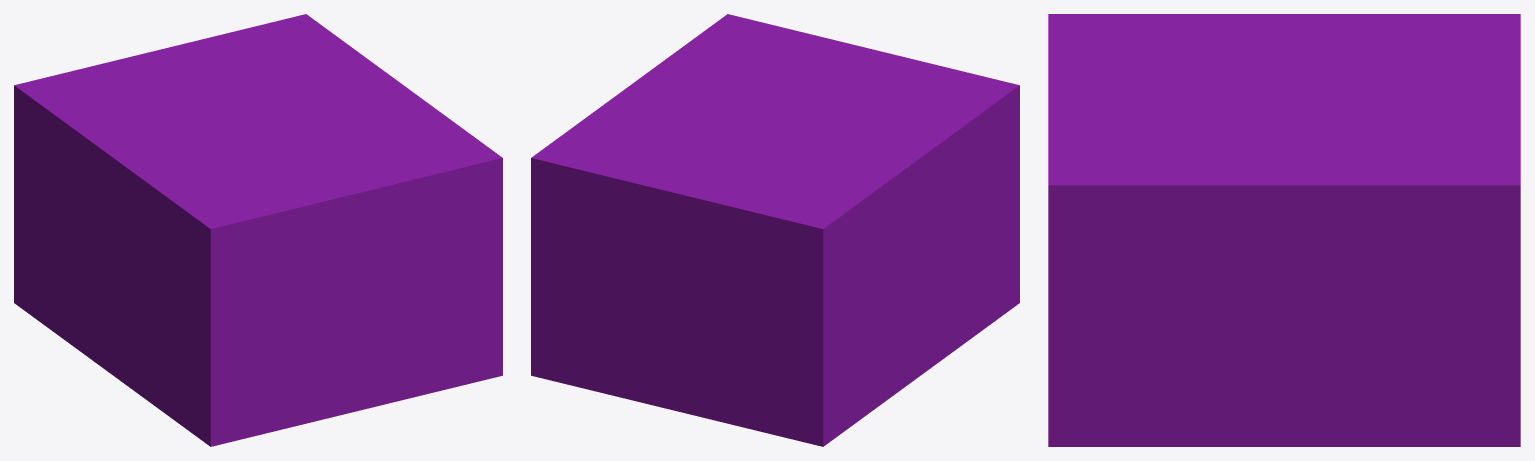
File: pier.DAE
The picture shows the model from 3 angles, left to right: view 1: azimuth 30°, elevation 25°; view 2: azimuth 150°, elevation 25°; view 3: azimuth 270°, elevation 25°; orthographic projection. The views are drawn at different scales.
Visible parts, largest first — view 1: bounds; view 2: bounds; view 3: bounds.
Part boxes in pixels (box(x1,y1,x2,y2)): bounds: box(14, 14, 502, 446); bounds: box(531, 14, 1019, 446); bounds: box(1048, 14, 1520, 446).
Bounding box in the file's own units: 23.27 × 27.12 × 16.57.
